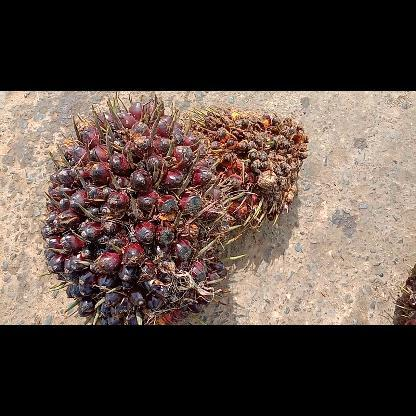Kurang masak: (39, 90, 245, 324)
TBS abnormal: (182, 104, 308, 226)
